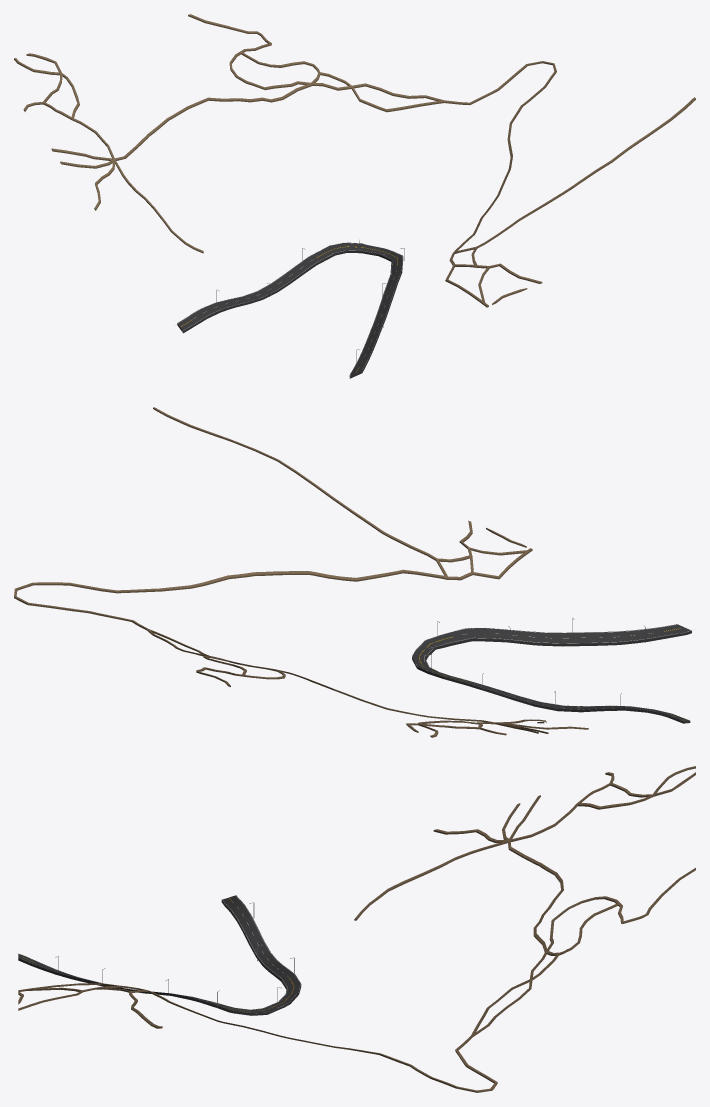
3 renders of one model, top to bottom at view 1: azimuth 30°, elevation 25°; view 2: azimuth 150°, elevation 25°; view 3: azimuth 270°, elevation 25°, orthographic. The views are drawn at different scales.
Size of the model in its own units: 296 by 81.2 by 293.
